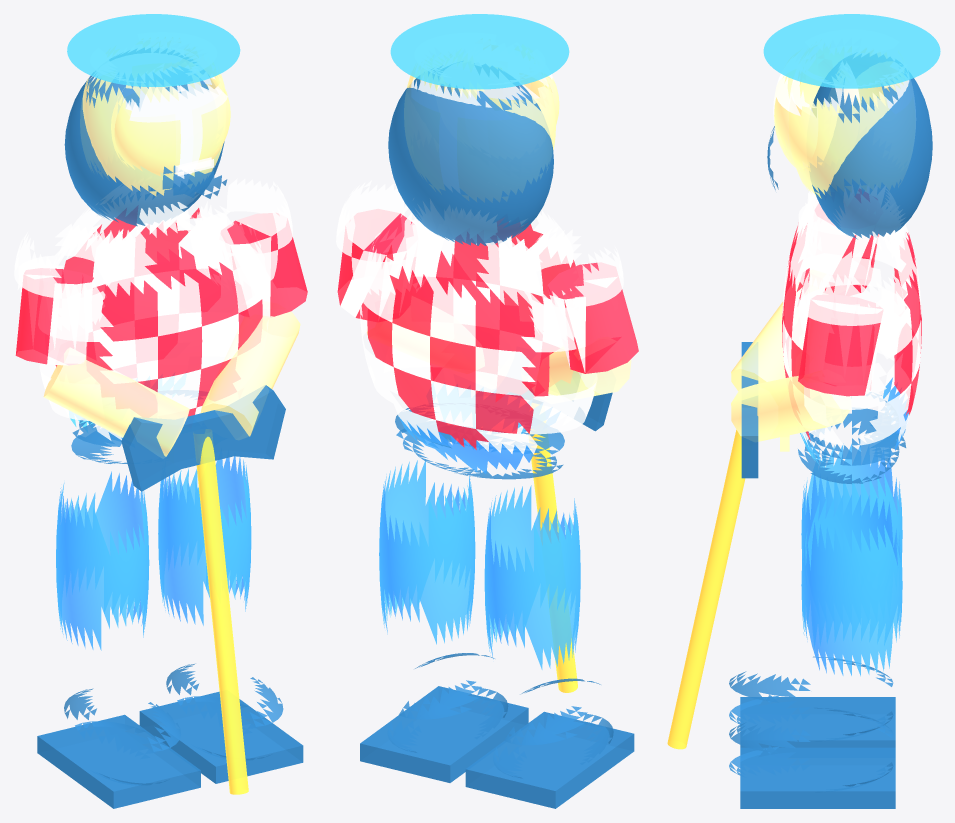
The model's file is paul-bunyan-kenton.glb.
3 renders of one model, left to right at view 1: azimuth 30°, elevation 25°; view 2: azimuth 150°, elevation 25°; view 3: azimuth 270°, elevation 25°, orthographic. The views are drawn at different scales.
Visible parts, largest first — view 1: Paul Bunyan statue.005, Paul Bunyan statue.002, Paul Bunyan statue.001, Paul Bunyan statue, Paul Bunyan statue.003, Paul Bunyan statue.004; view 2: Paul Bunyan statue.005, Paul Bunyan statue.001, Paul Bunyan statue.002, Paul Bunyan statue.003, Paul Bunyan statue, Paul Bunyan statue.004; view 3: Paul Bunyan statue.005, Paul Bunyan statue.001, Paul Bunyan statue.002, Paul Bunyan statue, Paul Bunyan statue.003, Paul Bunyan statue.004.
Part boxes in pixels (left/top/right/bottom): Paul Bunyan statue.005: left=37, top=70, right=303, bottom=808; Paul Bunyan statue.002: left=14, top=47, right=292, bottom=440; Paul Bunyan statue.001: left=56, top=14, right=251, bottom=650; Paul Bunyan statue: left=43, top=62, right=300, bottom=457; Paul Bunyan statue.003: left=15, top=208, right=307, bottom=416; Paul Bunyan statue.004: left=194, top=431, right=248, bottom=794; Paul Bunyan statue.005: left=360, top=72, right=634, bottom=808; Paul Bunyan statue.001: left=379, top=14, right=580, bottom=669; Paul Bunyan statue.002: left=336, top=43, right=623, bottom=454; Paul Bunyan statue.003: left=337, top=213, right=638, bottom=449; Paul Bunyan statue: left=367, top=48, right=631, bottom=399; Paul Bunyan statue.004: left=528, top=403, right=577, bottom=692; Paul Bunyan statue.005: left=729, top=59, right=932, bottom=808; Paul Bunyan statue.001: left=763, top=14, right=940, bottom=676; Paul Bunyan statue.002: left=773, top=56, right=921, bottom=446; Paul Bunyan statue: left=731, top=53, right=914, bottom=451; Paul Bunyan statue.003: left=782, top=189, right=921, bottom=440; Paul Bunyan statue.004: left=667, top=430, right=745, bottom=749.
Bounding box in the file's own units: 3.41 × 8.06 × 2.81.
